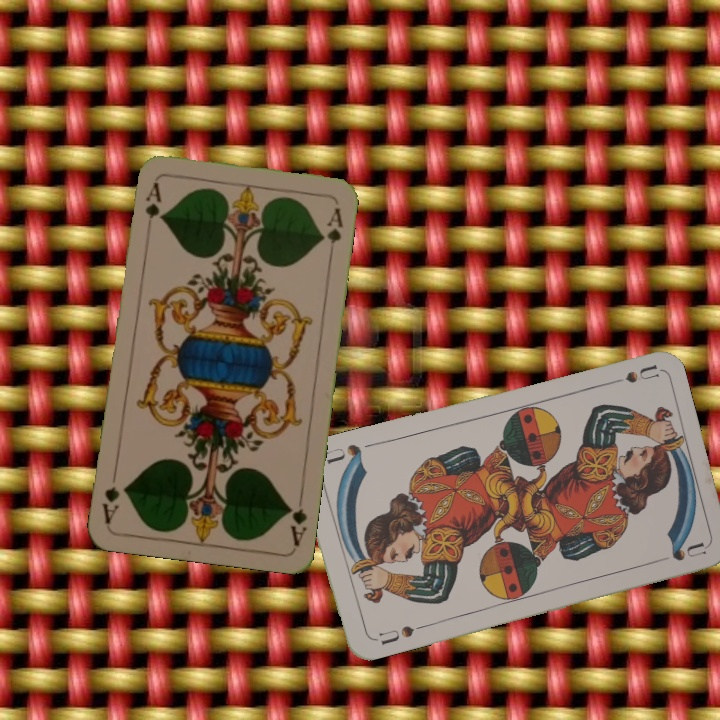GA: (283, 489, 310, 549), (141, 178, 163, 237)
SU: (600, 361, 660, 389), (375, 621, 417, 648)
